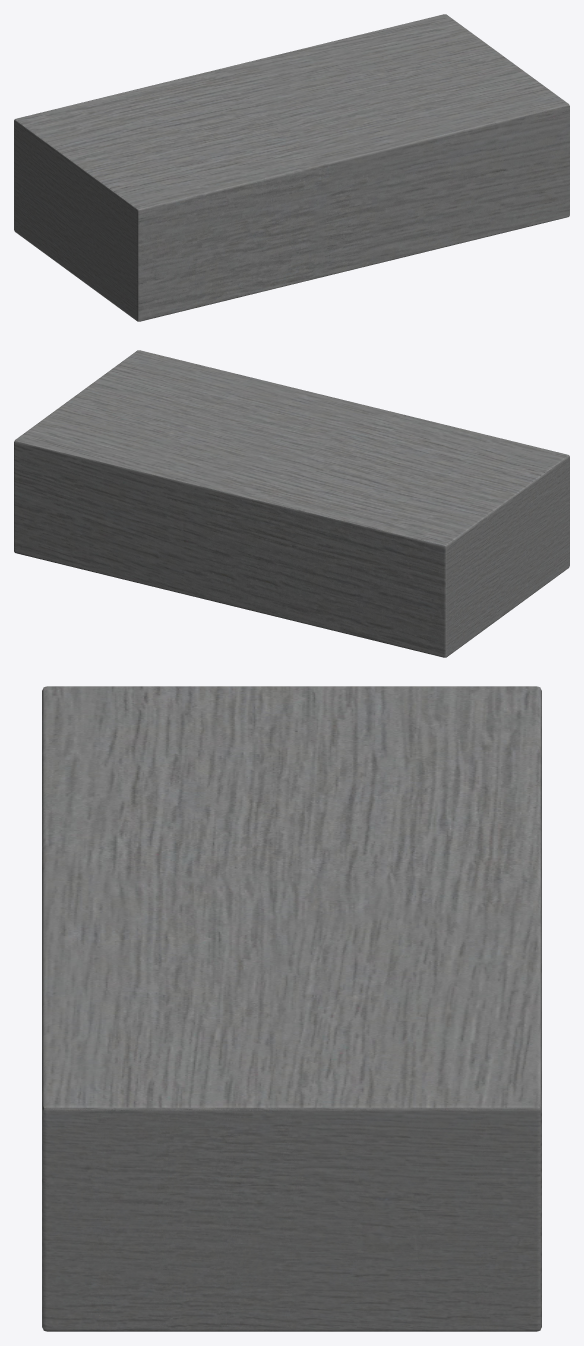
The model's file is BasicWoodenBlock.fbx.
3 views of the same model, one above another, from view 1: azimuth 30°, elevation 25°; view 2: azimuth 150°, elevation 25°; view 3: azimuth 270°, elevation 25° (orthographic). The views are drawn at different scales.
Parts seen in each view (by area): view 1: WoodenBlock; view 2: WoodenBlock; view 3: WoodenBlock.
Part boxes in pixels (left/top/right/bottom): WoodenBlock: left=14, top=14, right=569, bottom=321; WoodenBlock: left=14, top=350, right=569, bottom=657; WoodenBlock: left=42, top=686, right=541, bottom=1331.
Size of the model in its own units: 400 by 100 by 200.
Materials: 1 (1 with a texture image).
